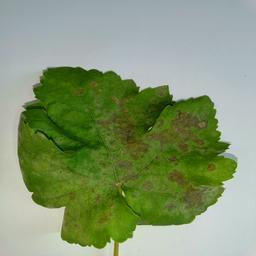Powdery-Mildew: (153, 108, 212, 153), (63, 174, 115, 224), (102, 107, 148, 153), (169, 172, 214, 213), (113, 158, 153, 198), (33, 152, 63, 184), (203, 163, 220, 179)
